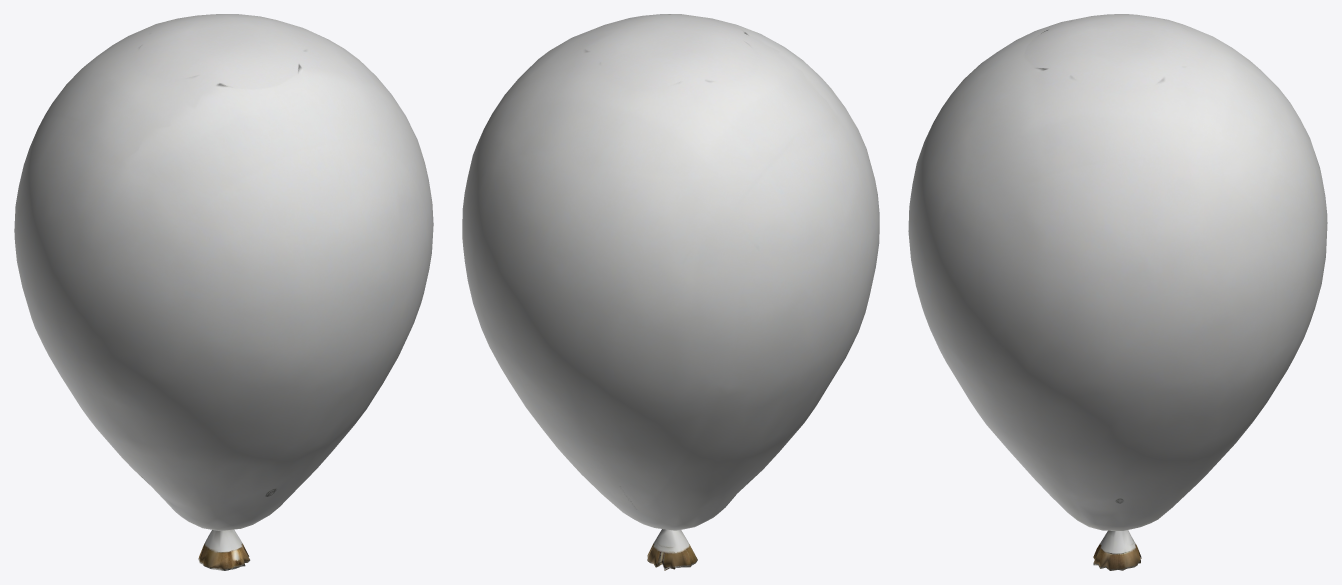
The model's file is A_single_low_poly_3D__1209034502_texture.fbx.
3 views of the same model, side by side, from view 1: azimuth 30°, elevation 25°; view 2: azimuth 150°, elevation 25°; view 3: azimuth 270°, elevation 25° (orthographic).
Visible parts, largest first — view 1: Mesh_0; view 2: Mesh_0; view 3: Mesh_0.
Part boxes in pixels (x1,y1,x2,y2): Mesh_0: (14,14,433,570); Mesh_0: (462,14,879,570); Mesh_0: (908,14,1327,570).
Size of the model in its own units: 130 by 181 by 130.
1 material, 1 textured.
